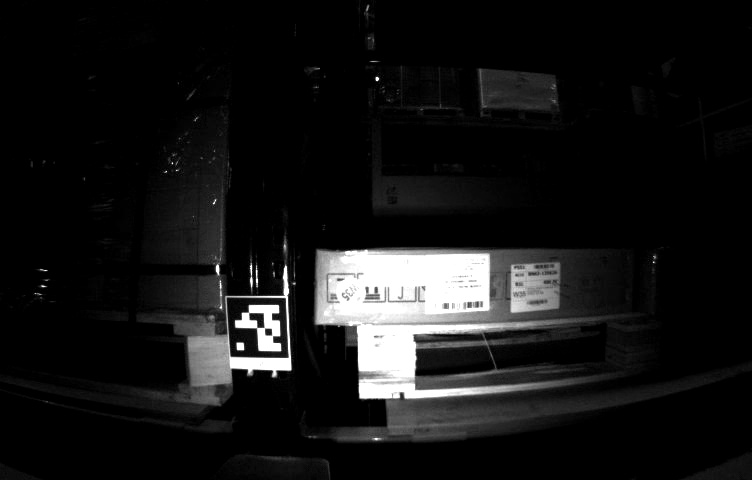True Barcode: (509, 265, 559, 310)
